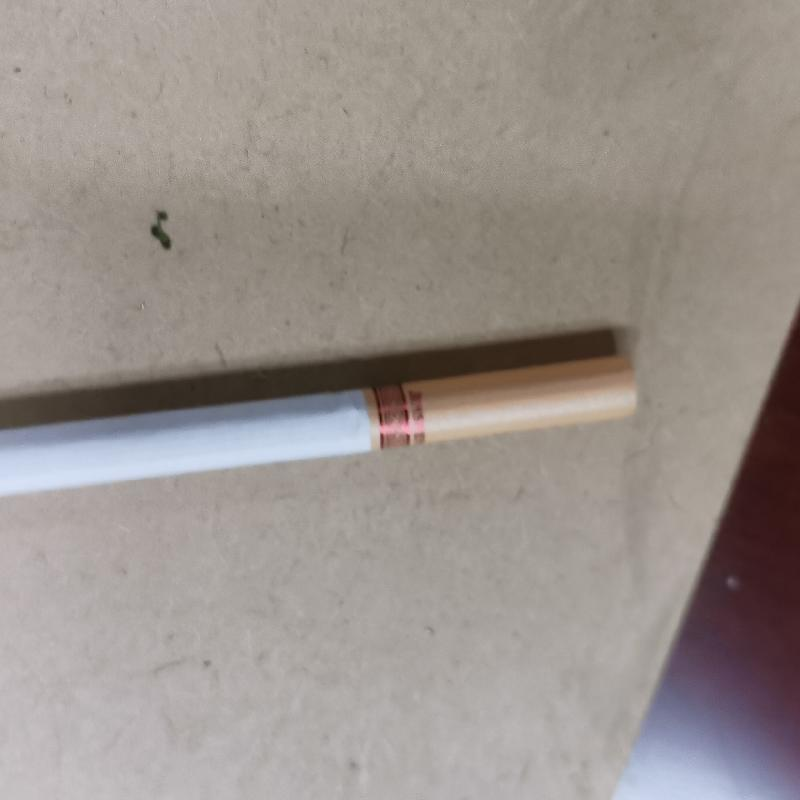cigarette: (4, 354, 640, 496)
